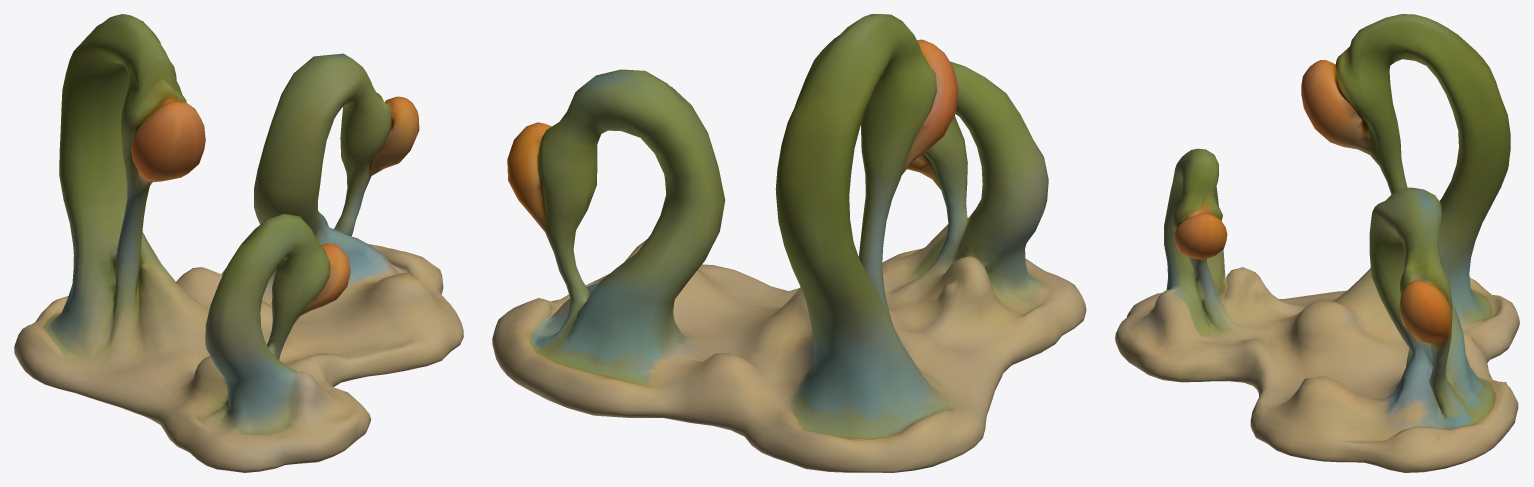
Rendered from b987dead-267f-445b-8fae-b3ebb7819209.glb.
3 views of the same model, side by side, from view 1: azimuth 30°, elevation 25°; view 2: azimuth 150°, elevation 25°; view 3: azimuth 270°, elevation 25° (orthographic). The views are drawn at different scales.
Parts seen in each view (by area): view 1: tripo_node_cf7af45e-a712-424e-8170-b8ea2a009457; view 2: tripo_node_cf7af45e-a712-424e-8170-b8ea2a009457; view 3: tripo_node_cf7af45e-a712-424e-8170-b8ea2a009457.
Boxes of the visible parts, left/top/right/bottom form: tripo_node_cf7af45e-a712-424e-8170-b8ea2a009457: left=14, top=14, right=463, bottom=472; tripo_node_cf7af45e-a712-424e-8170-b8ea2a009457: left=492, top=14, right=1086, bottom=472; tripo_node_cf7af45e-a712-424e-8170-b8ea2a009457: left=1115, top=14, right=1519, bottom=472.
Size of the model in its own units: 1 by 0.8004 by 0.9237.
1 material, 1 textured.
